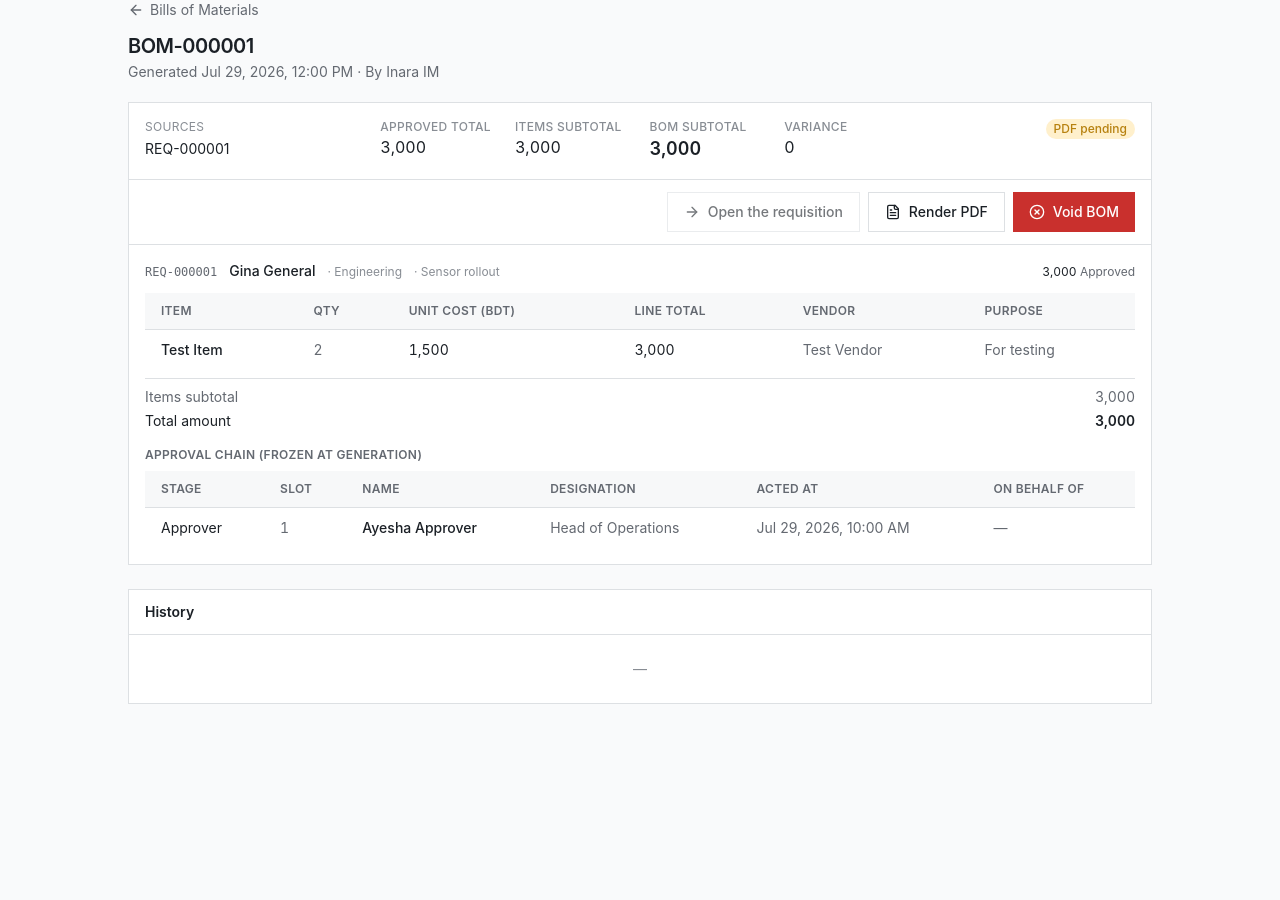
Test case: BomDetailPage › opens the void dialog when the IM clicks Void
Click the button "Void BOM".
click(1074, 212)  # box x1=1013 y1=192 x2=1135 y2=232
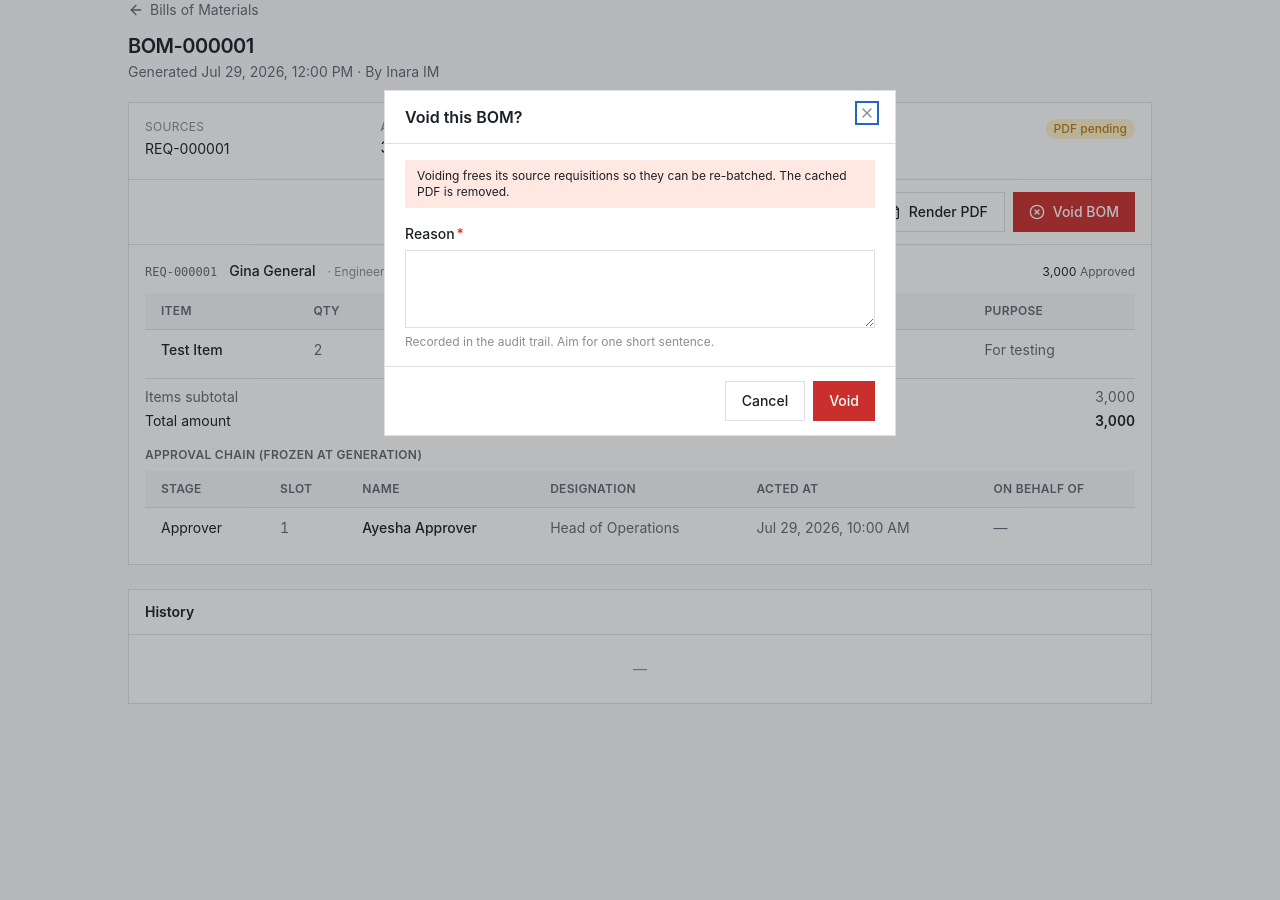
Check: the dialog "Void this BOM?" is shown, box x1=384 y1=90 x2=896 y2=436
